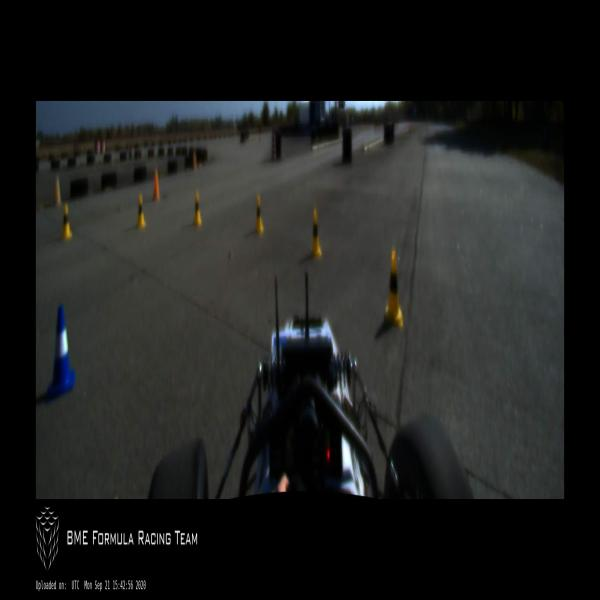blue_cone: (46, 304, 76, 400)
orange_cone: (153, 170, 160, 200), (55, 177, 61, 209)
yellow_cone: (383, 252, 403, 328), (309, 210, 322, 257), (61, 203, 72, 240), (255, 195, 264, 235), (136, 195, 146, 229), (193, 192, 201, 226)
